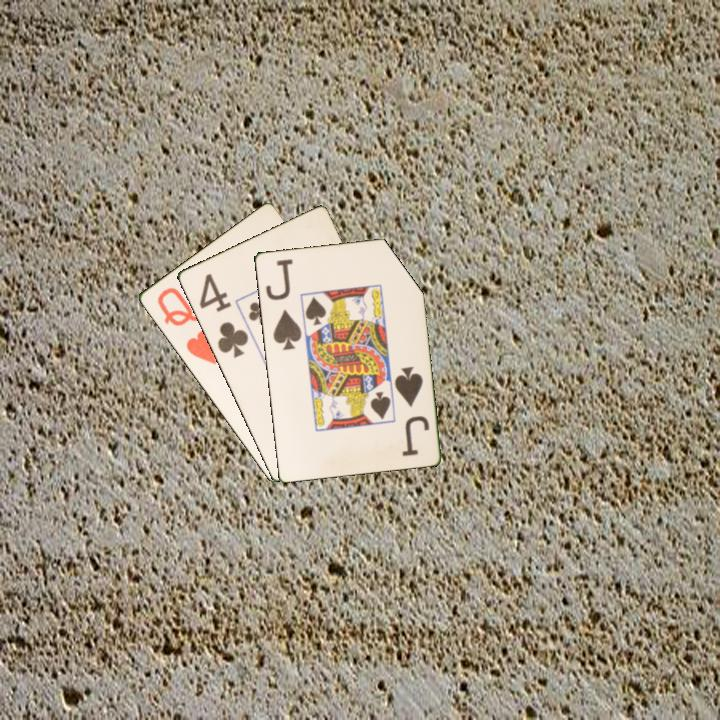4c: (195, 270, 251, 361)
Js: (262, 255, 304, 353), (391, 363, 432, 459)
Qh: (153, 284, 219, 367)
